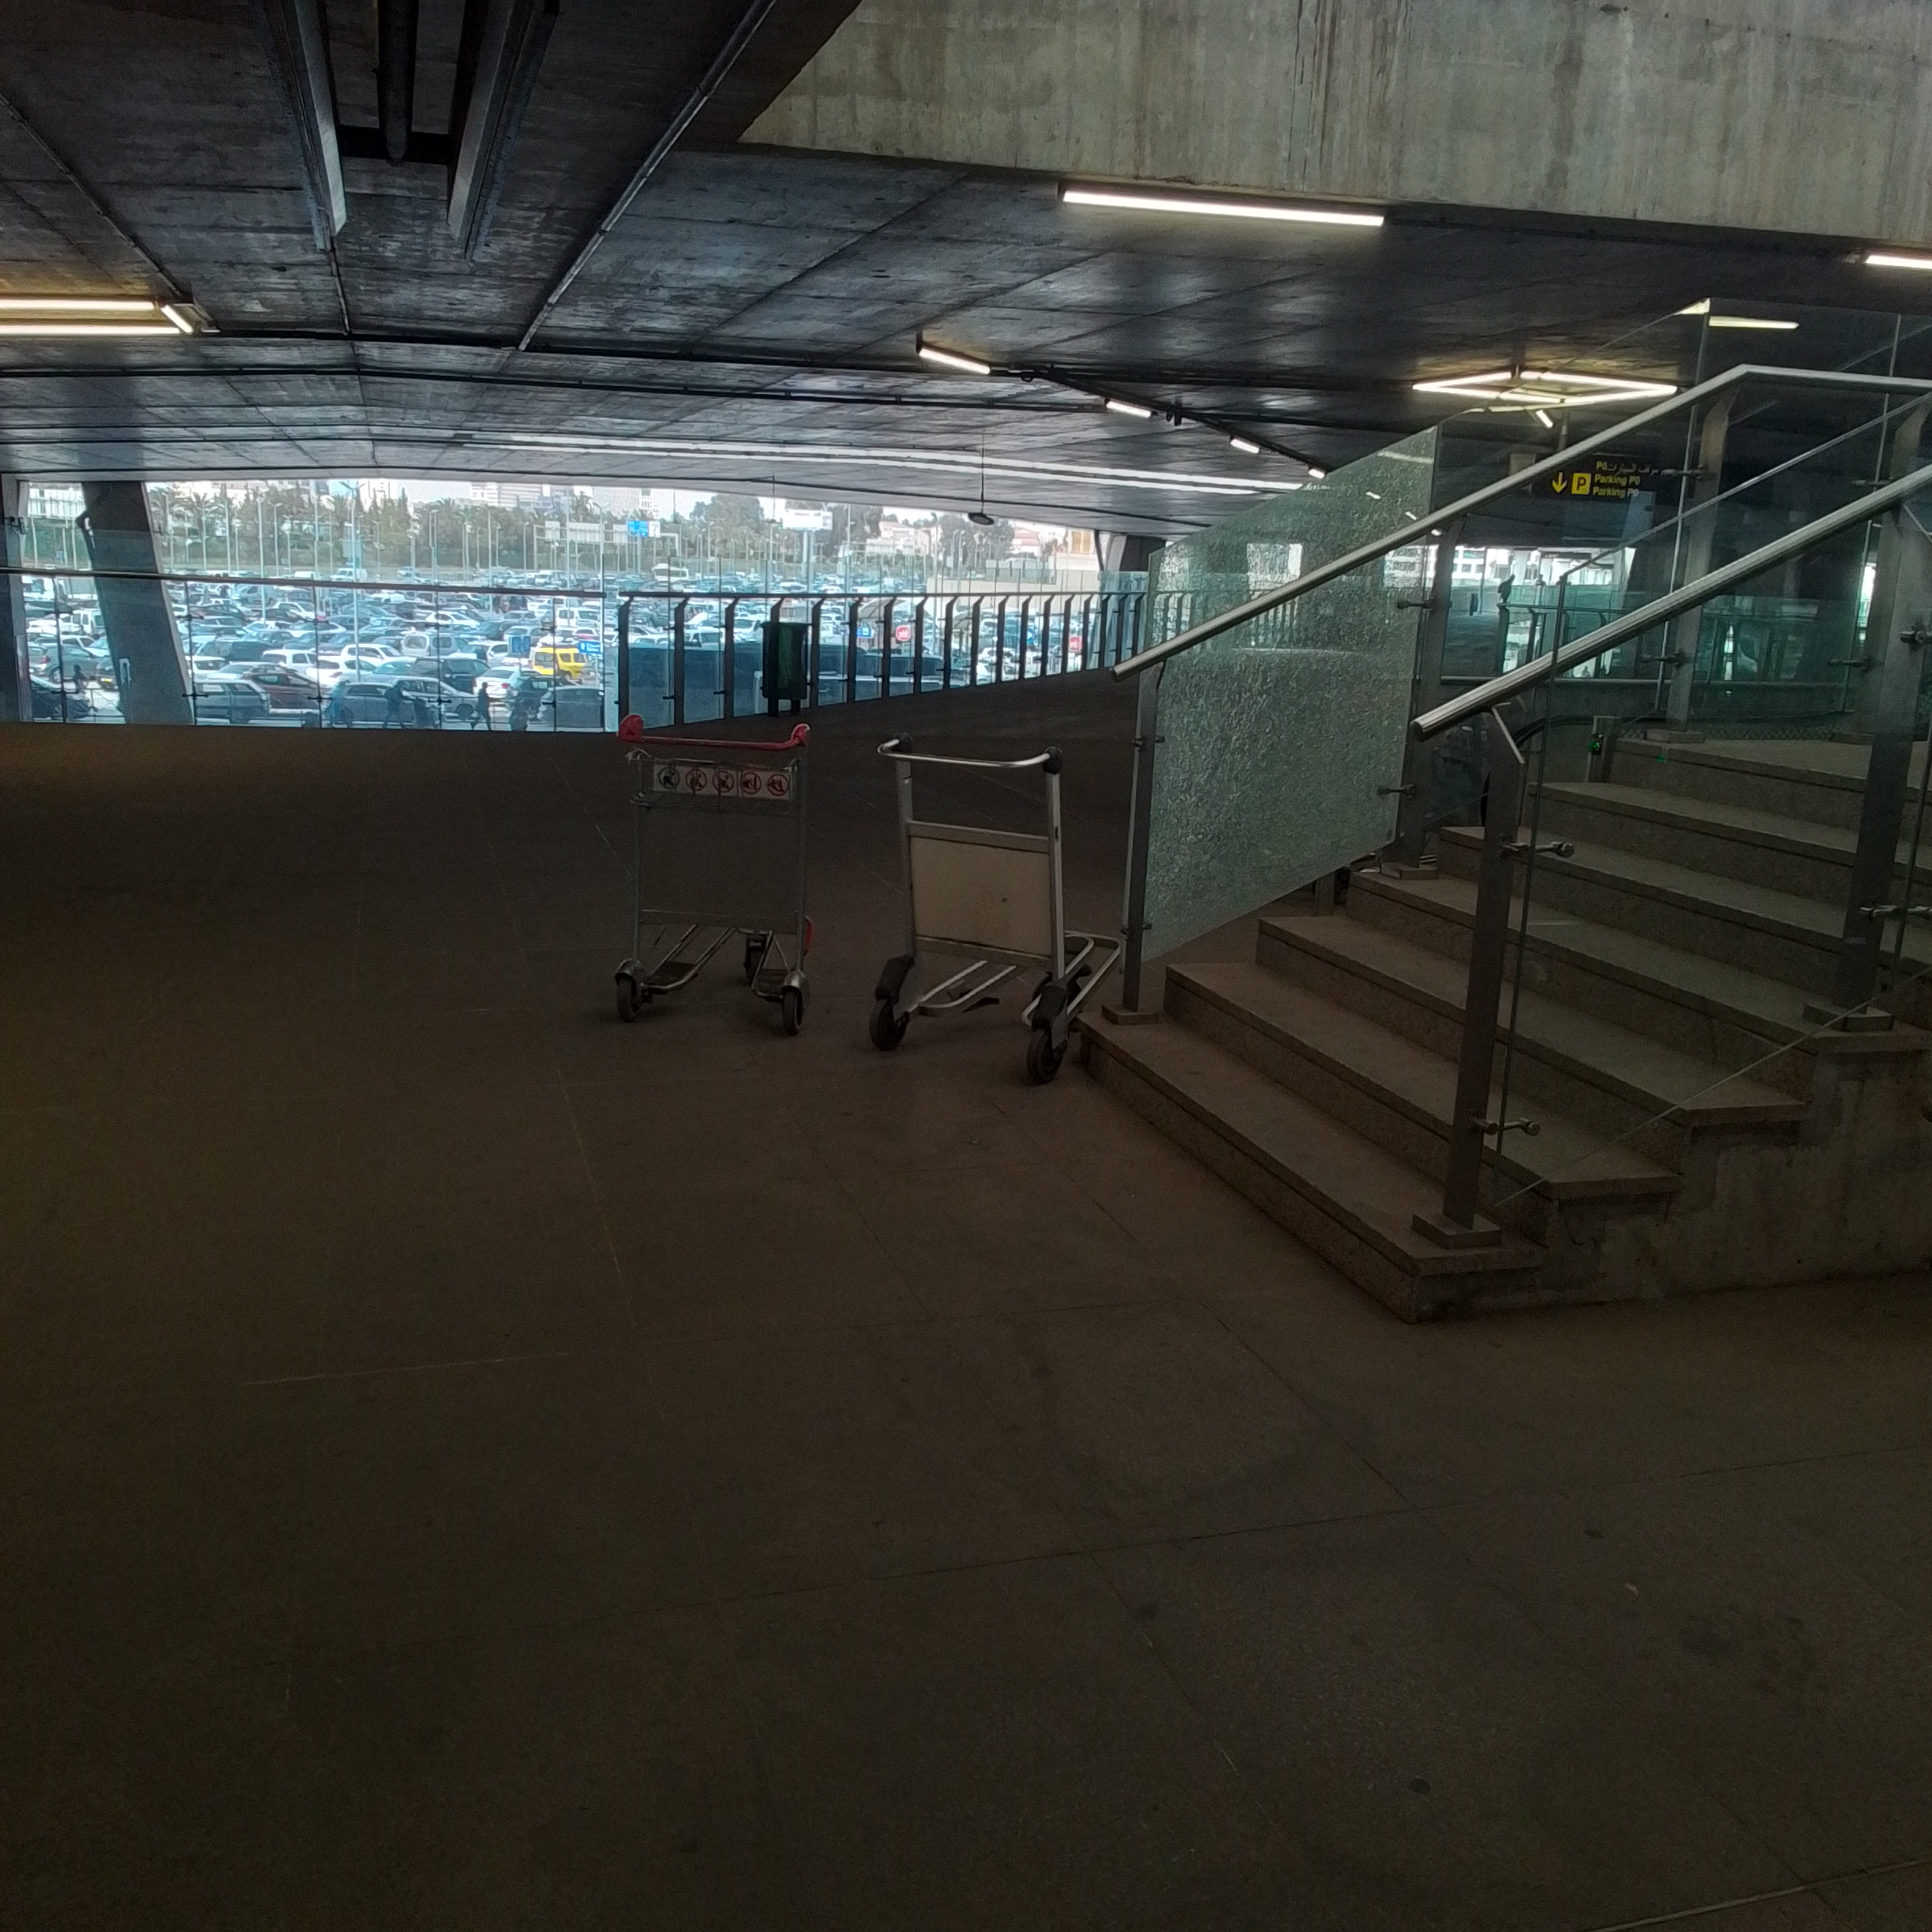airport-trolley: (869, 734, 1115, 1076), (605, 713, 826, 1046)
